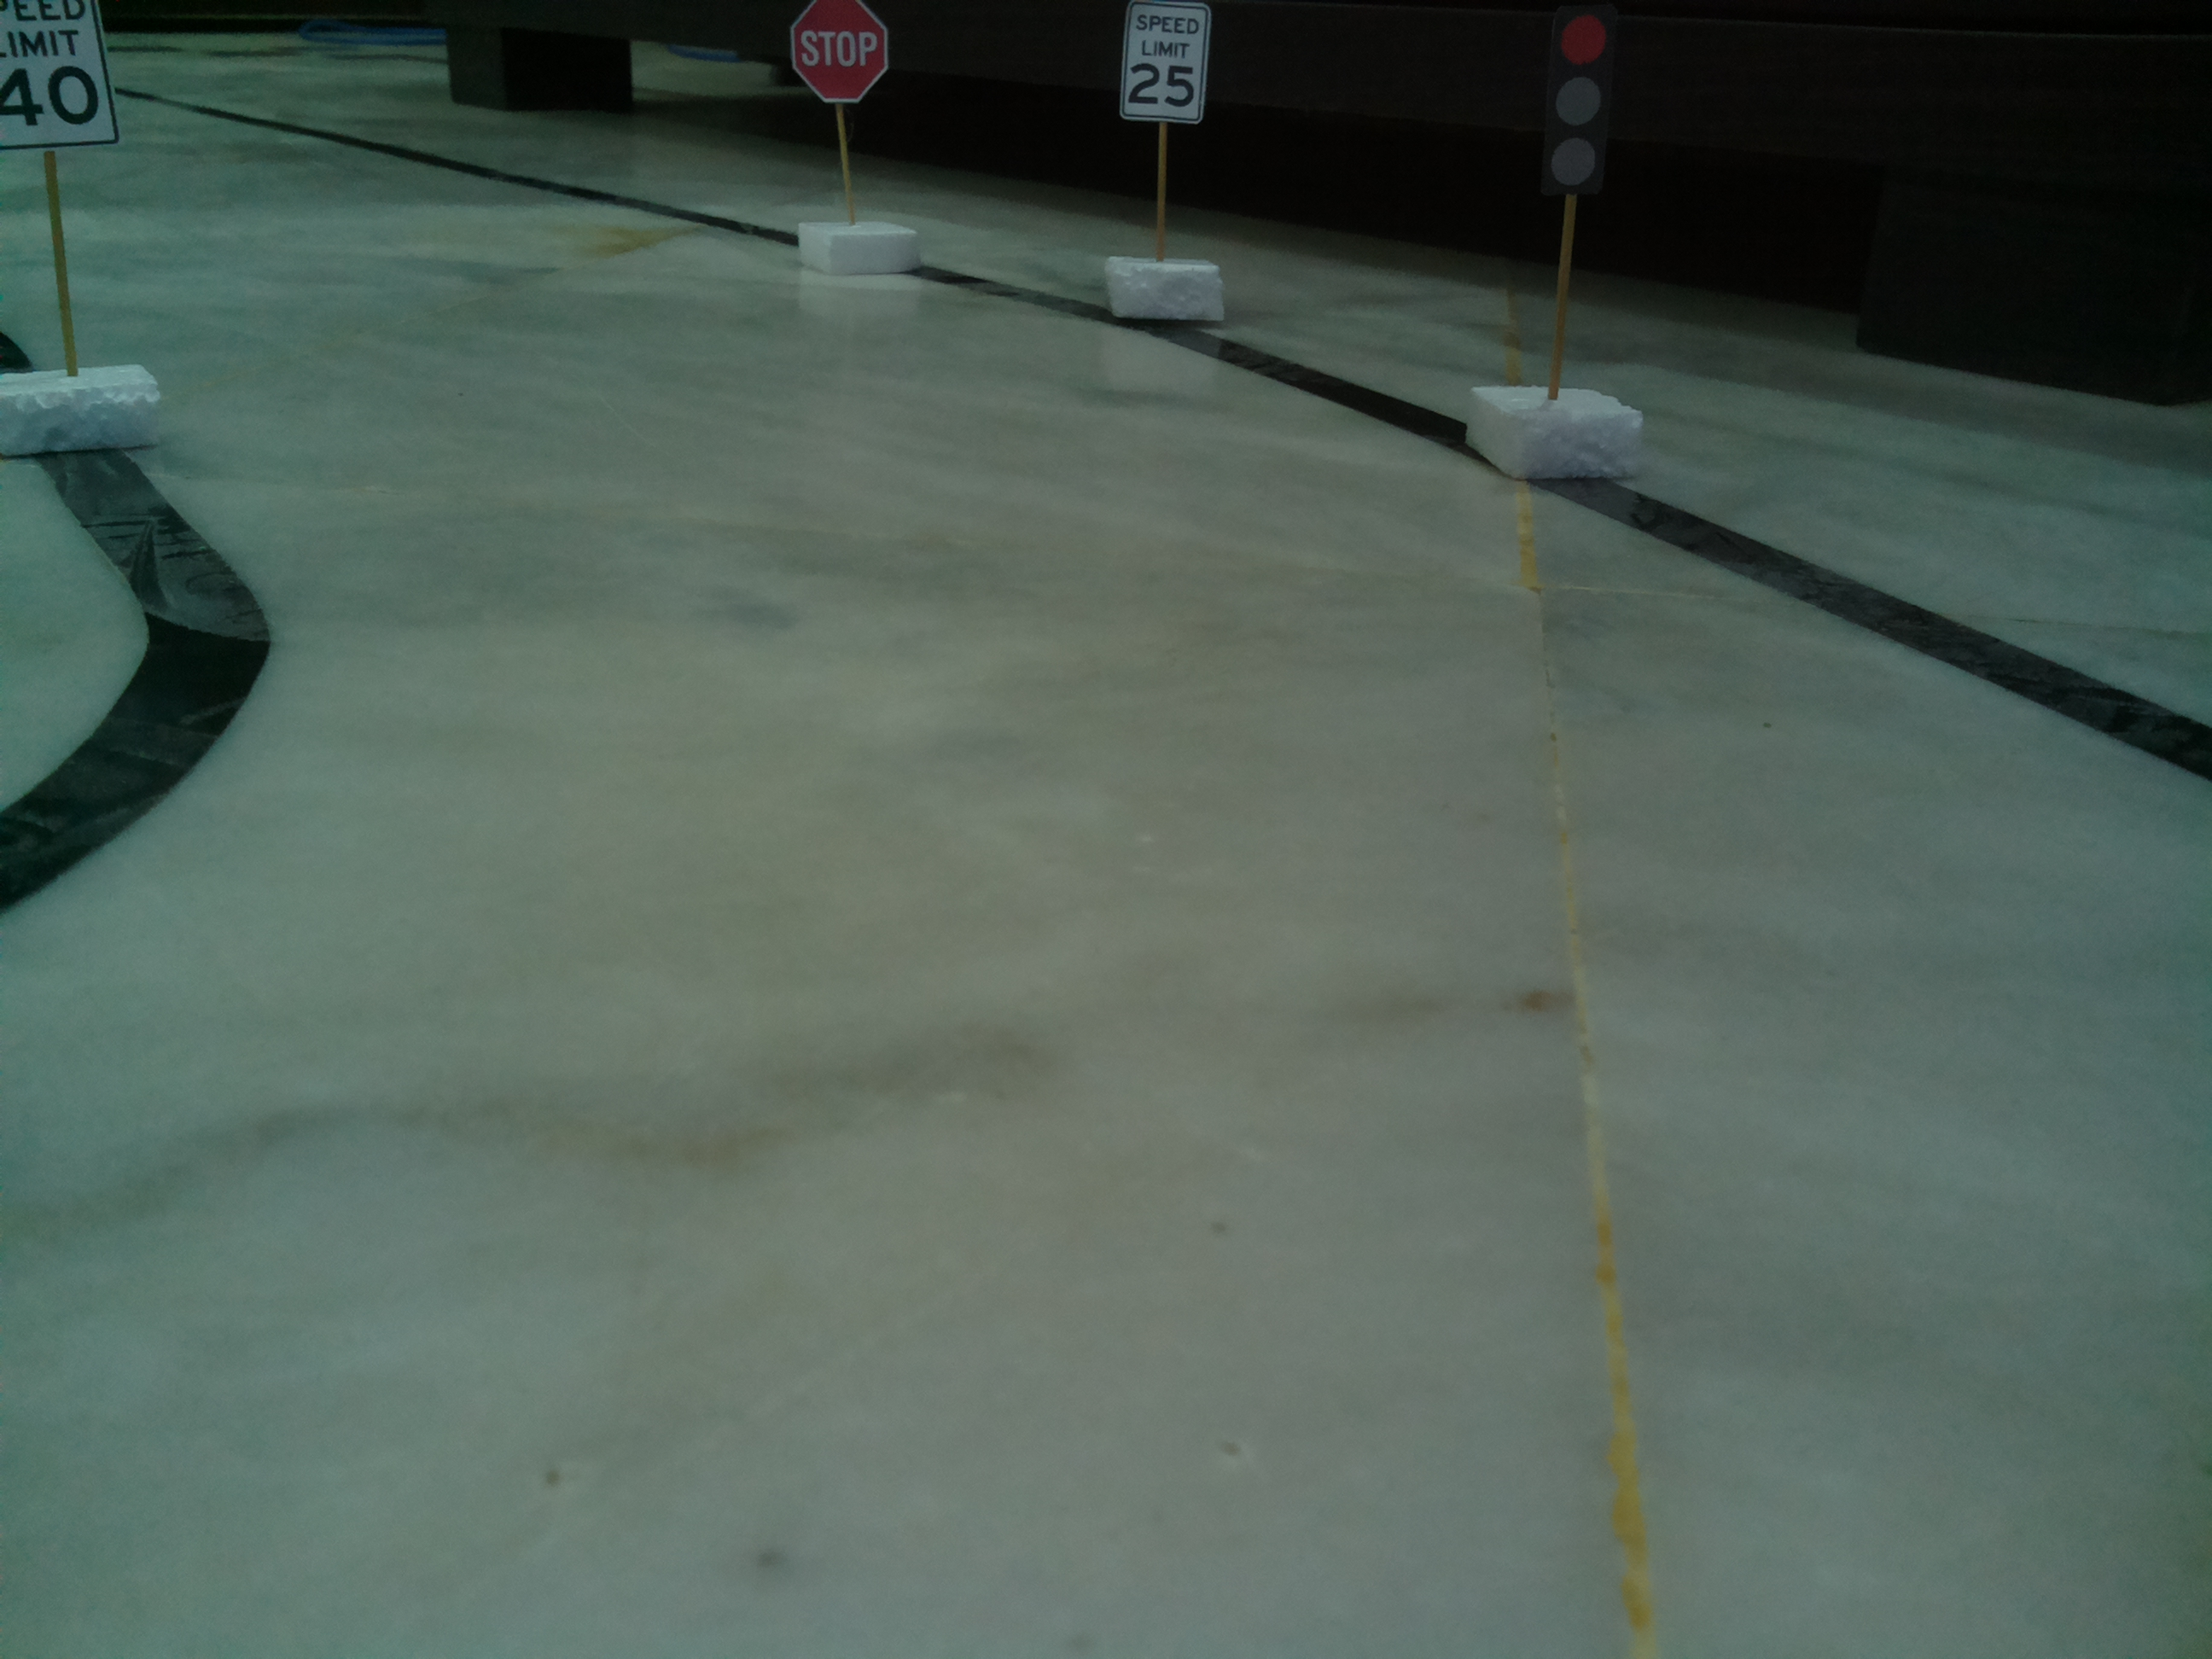Red traffic light: (1536, 5, 1613, 202)
Speed limit 25: (1122, 7, 1216, 127)
Speed limit 40: (0, 5, 127, 153)
Stop sign: (780, 3, 894, 108)
